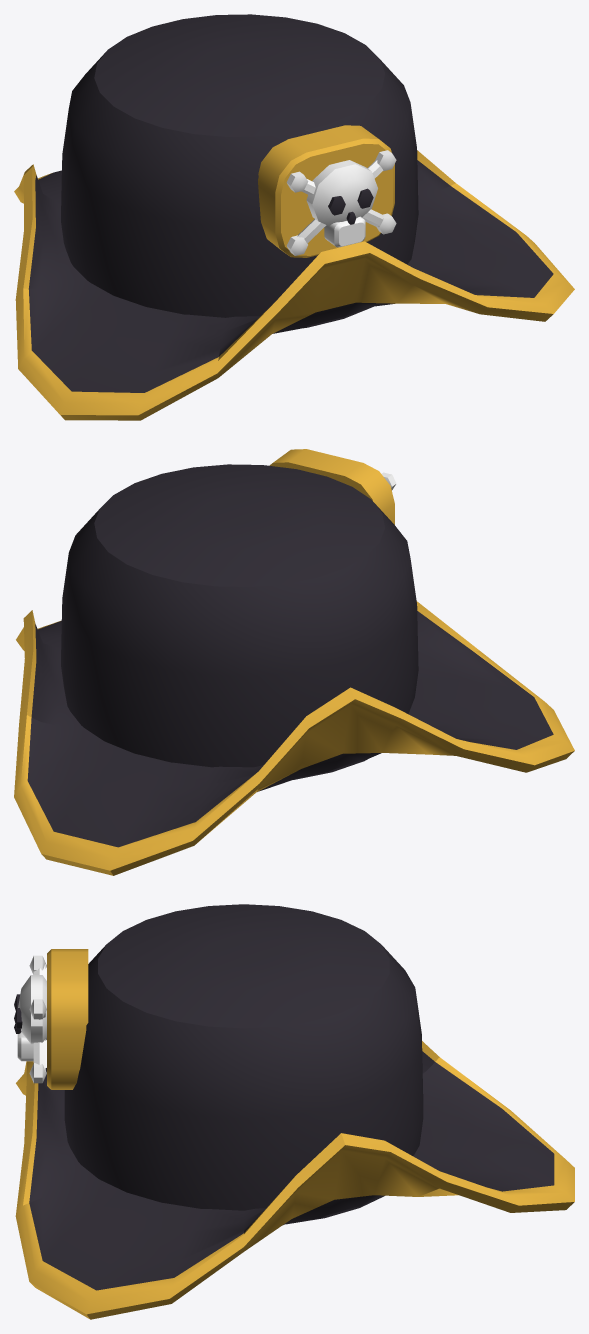
Rendered from hat_pirate.glb.
3 renders of one model, top to bottom at view 1: azimuth 30°, elevation 25°; view 2: azimuth 150°, elevation 25°; view 3: azimuth 270°, elevation 25°, orthographic.
Visible parts, largest first — view 1: Hat; view 2: Hat; view 3: Hat.
Part boxes in pixels (x1,y1,x2,y2): Hat: (14,14,574,420); Hat: (14,449,574,875); Hat: (14,904,574,1319).
Size of the model in its own units: 0.8197 by 0.3705 by 0.7637.
